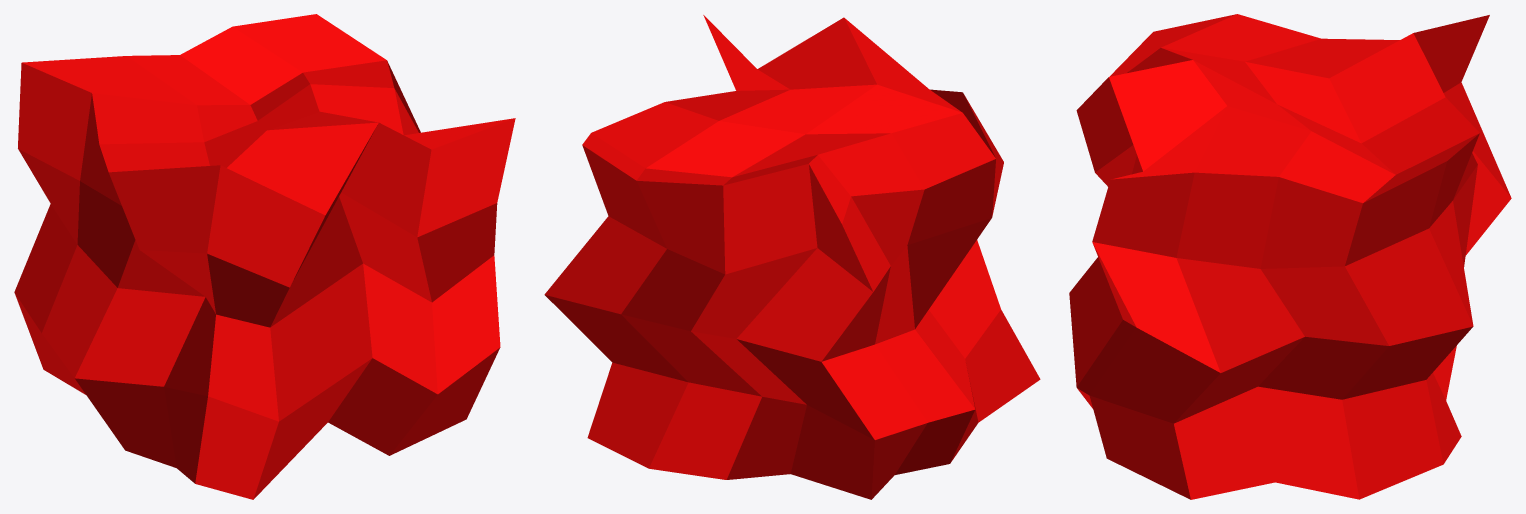
File: umgebung_papierknaul_low.FBX
3 views of the same model, side by side, from view 1: azimuth 30°, elevation 25°; view 2: azimuth 150°, elevation 25°; view 3: azimuth 270°, elevation 25° (orthographic). The views are drawn at different scales.
Parts seen in each view (by area): view 1: o_papierknaule_low; view 2: o_papierknaule_low; view 3: o_papierknaule_low.
Part boxes in pixels (<box>): o_papierknaule_low: <box>14,14,515,499</box>; o_papierknaule_low: <box>544,15,1040,499</box>; o_papierknaule_low: <box>1069,14,1511,499</box>.
Bounding box in the file's own units: 34.04 × 32.84 × 30.85.
